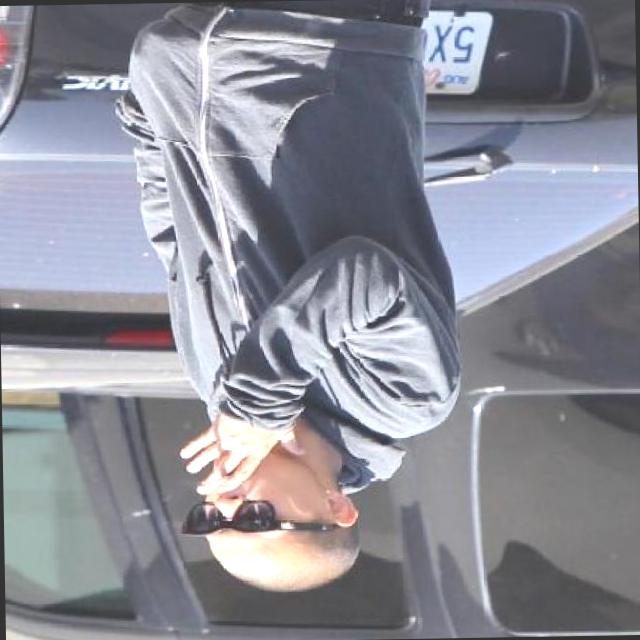smoke: (192, 474, 235, 492)
